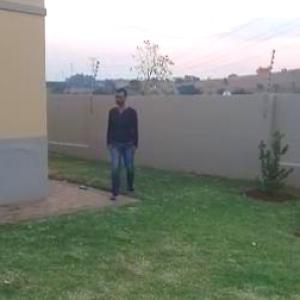follow: (104, 83, 144, 207)
